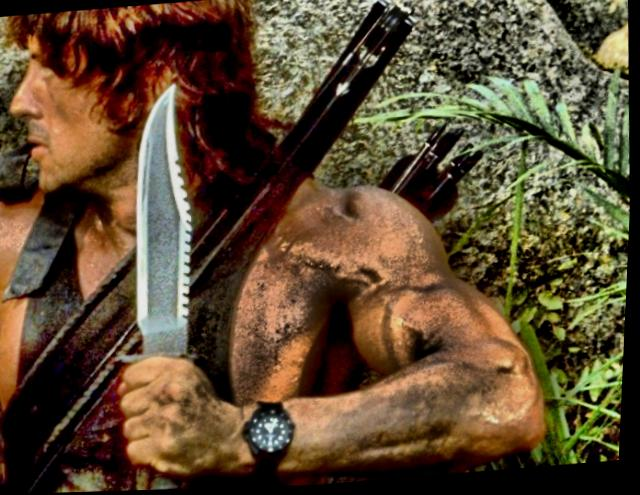knife: (95, 74, 222, 472)
